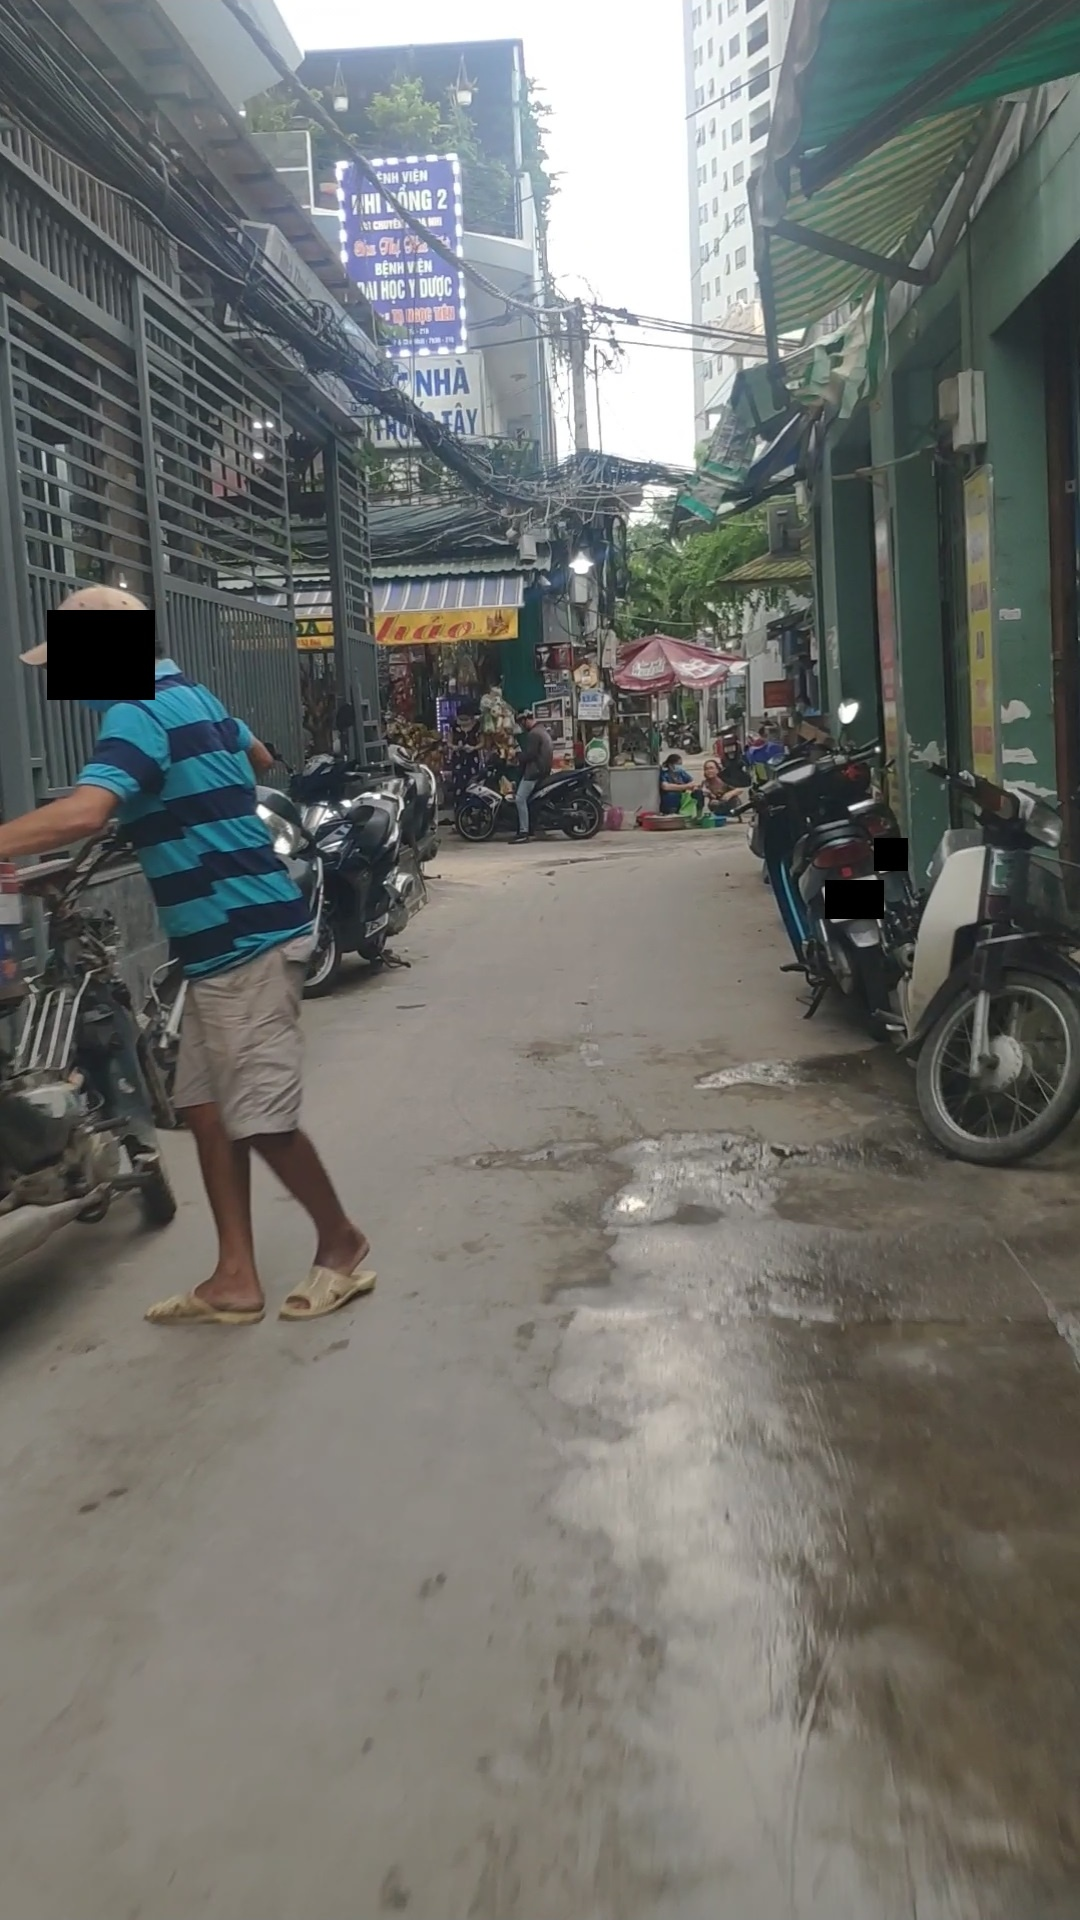hole: (707, 1127, 822, 1183), (527, 847, 642, 872), (596, 1187, 655, 1224), (459, 1143, 514, 1178)
